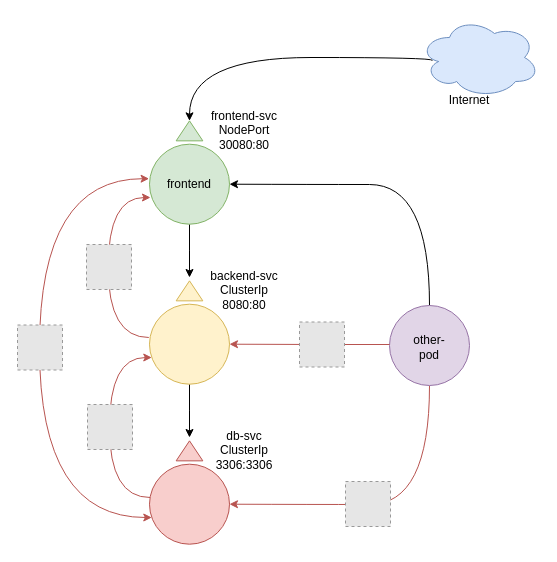
Some shapes in this 557 by 562 pixel diagram are drawn without their labels. Grey dashed boxes stand in for pictures. The shapes that lost their labels are listed below. From the top down, each one's box as (x1, y1, x2, y2) in pixels, then its label:
(148, 303, 230, 384): backend
(148, 463, 230, 544): db
